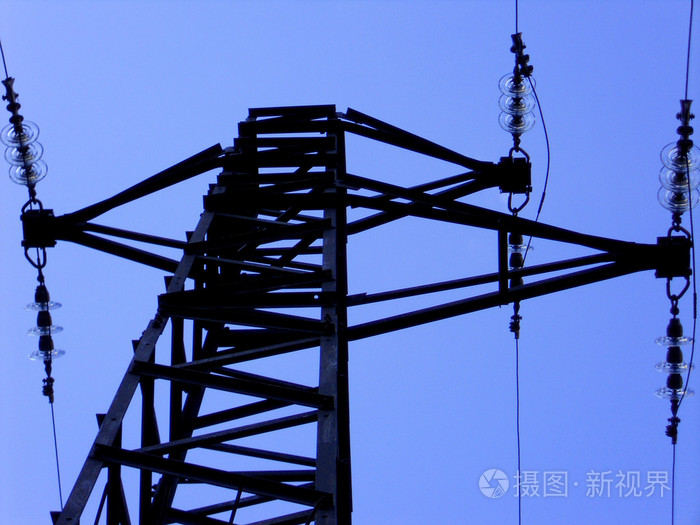insulator: (1, 121, 49, 188), (657, 142, 700, 211), (656, 334, 695, 402), (497, 71, 538, 134), (27, 298, 64, 362)
